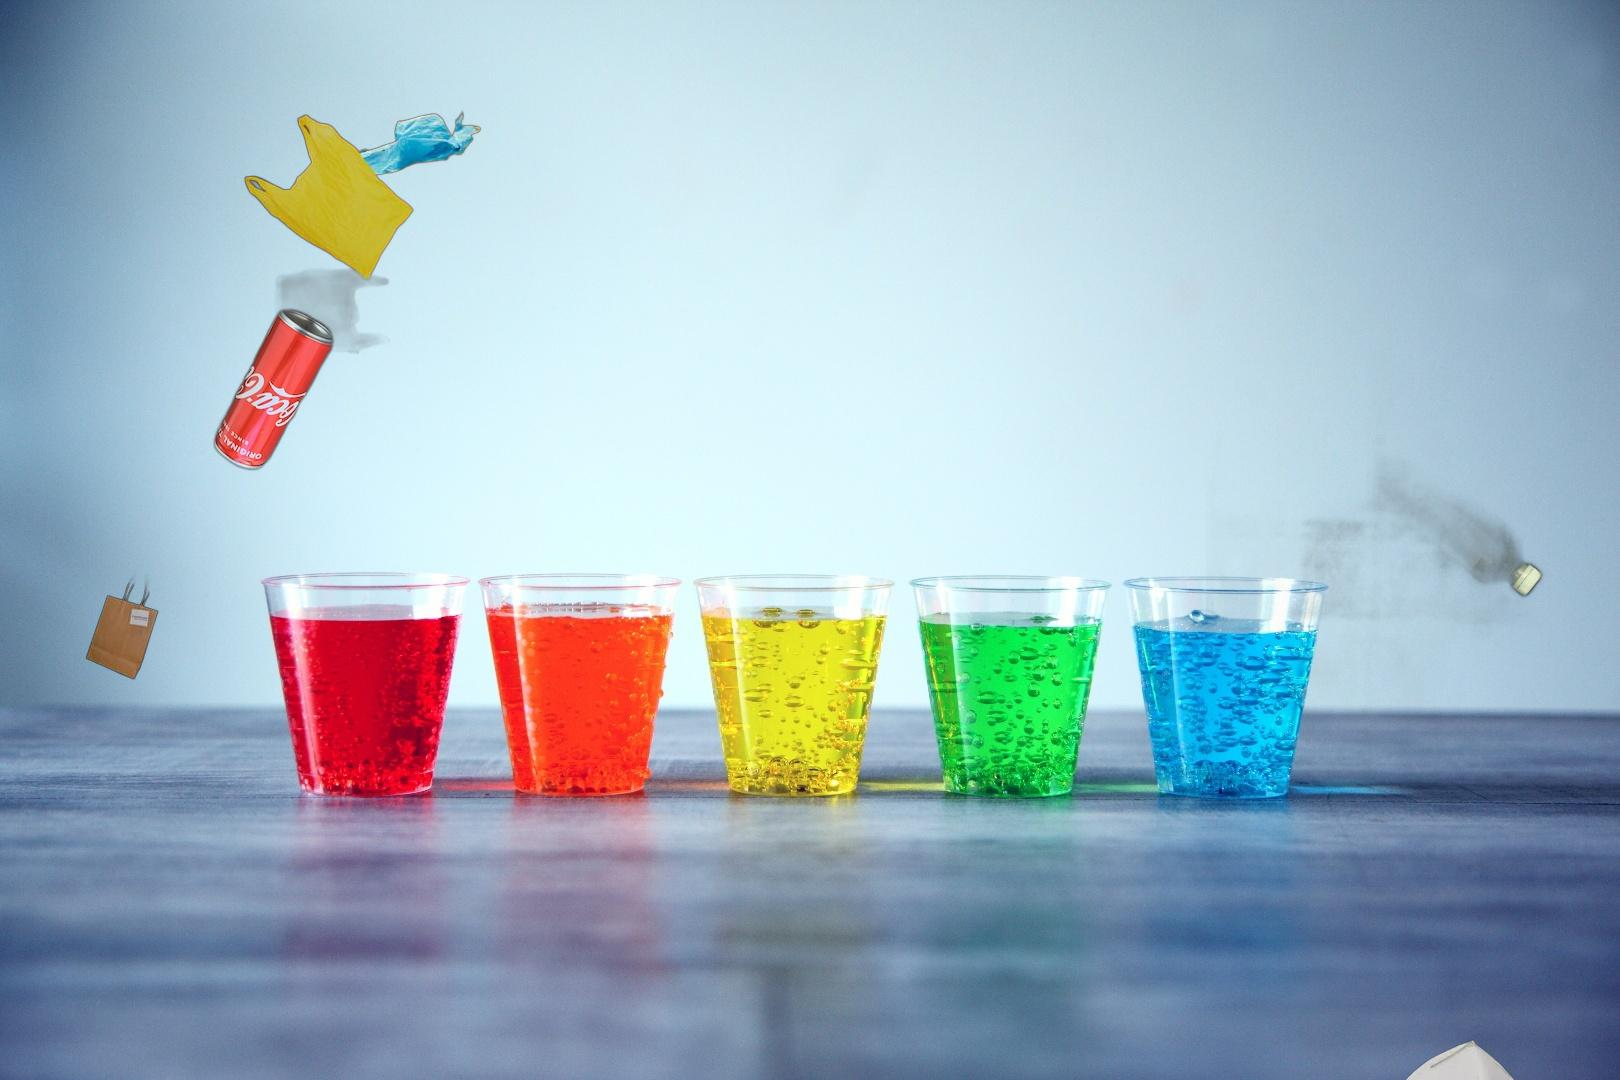metal-cans: (70, 303, 337, 741)
paper-bag: (83, 568, 162, 682)
plastic-bag: (229, 108, 482, 354)
plastic-bottles: (1207, 347, 1620, 943)
trash: (1342, 1037, 1559, 1080)
